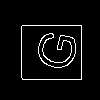G: (25, 25, 80, 74)
